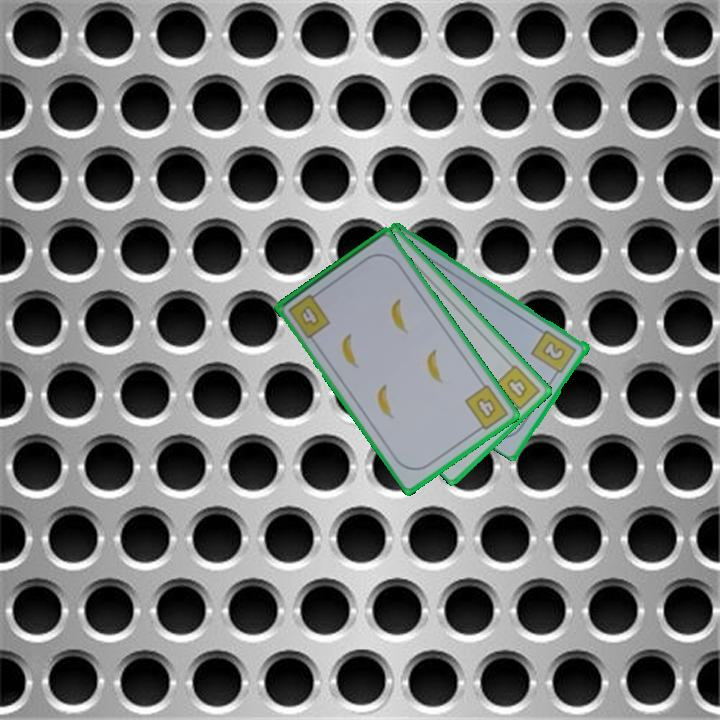2b: (528, 326, 580, 380)
4b: (492, 361, 543, 417), (461, 381, 511, 436), (299, 304, 322, 329)
